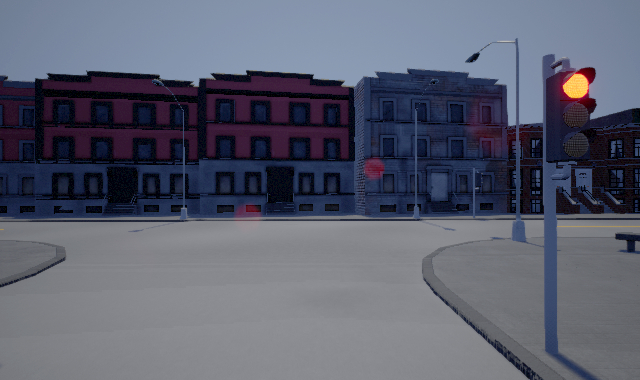traffic_light: (546, 66, 597, 162)
